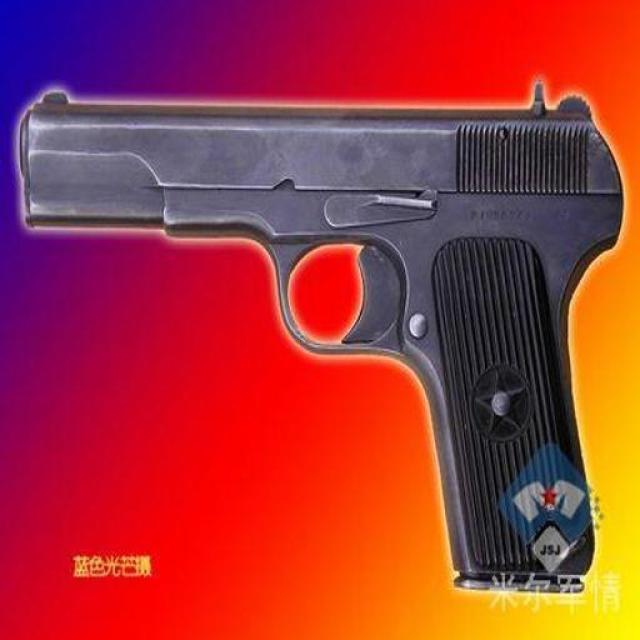pistol: (17, 81, 626, 597)
